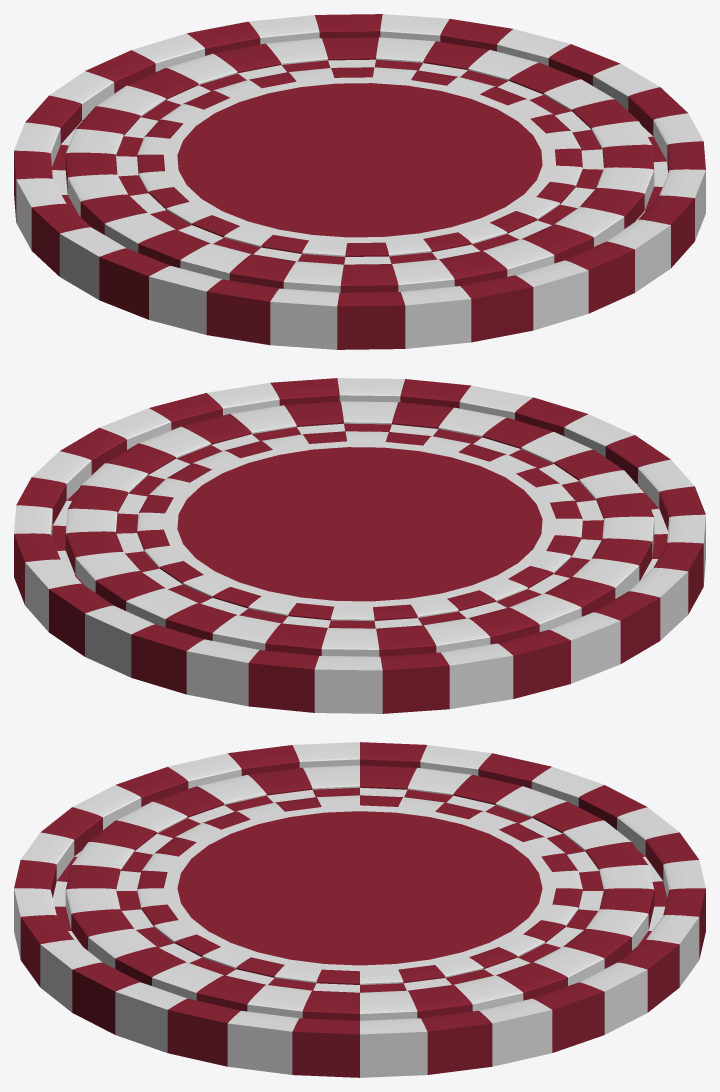
Rendered from letitride1.glb.
3 renders of one model, top to bottom at view 1: azimuth 30°, elevation 25°; view 2: azimuth 150°, elevation 25°; view 3: azimuth 270°, elevation 25°, orthographic.
Parts seen in each view (by area): view 1: Cylinder; view 2: Cylinder; view 3: Cylinder.
Boxes of the visible parts, left/top/right/bottom form: Cylinder: left=14, top=14, right=705, bottom=349; Cylinder: left=14, top=378, right=705, bottom=713; Cylinder: left=14, top=742, right=705, bottom=1077.
Bounding box in the file's own units: 2 × 0.1382 × 2.
